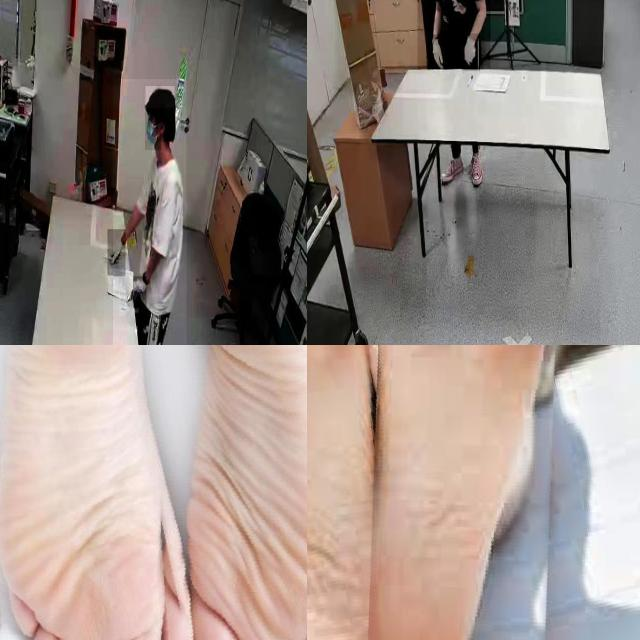Barefoots: (307, 345, 640, 640), (112, 345, 307, 640), (0, 345, 172, 640), (307, 345, 451, 640)
face_mask: (145, 110, 161, 150)
hand_glove: (108, 230, 126, 276), (427, 34, 448, 70), (462, 34, 480, 72), (133, 276, 147, 310)
head_nohelmet: (145, 86, 175, 108)
person: (113, 79, 187, 345), (417, 0, 490, 69)
shoes: (440, 153, 466, 188), (468, 153, 486, 191)
